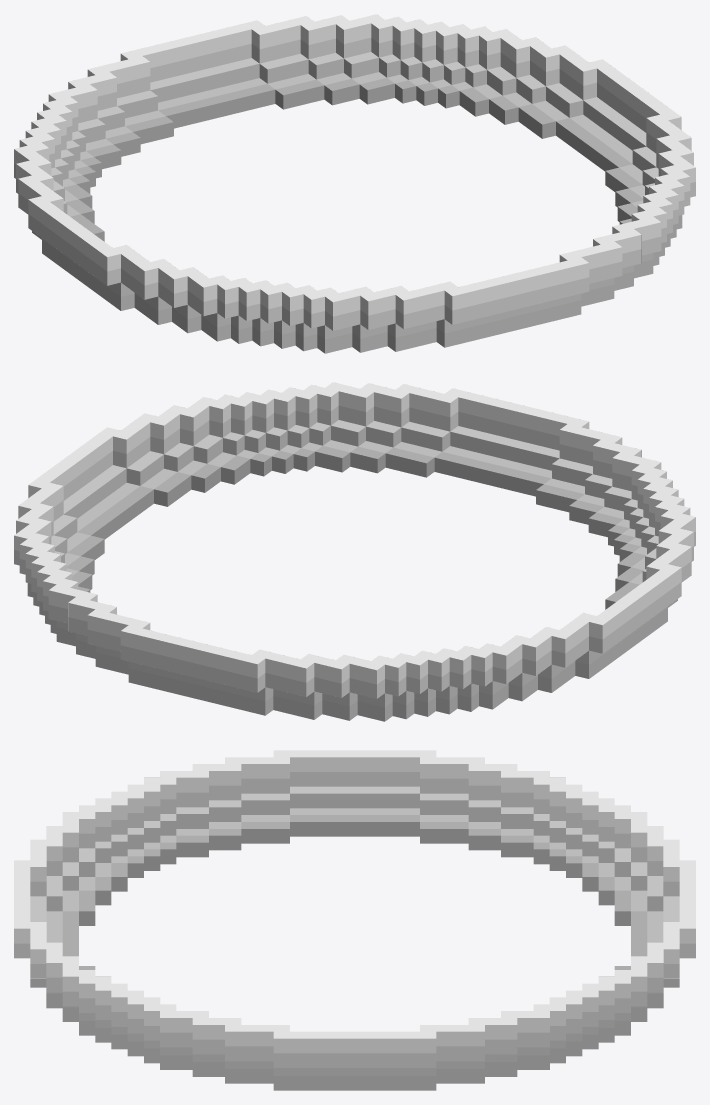
Rendered from Guardian Basic Ability.obj.
3 views of the same model, one above another, from view 1: azimuth 30°, elevation 25°; view 2: azimuth 150°, elevation 25°; view 3: azimuth 270°, elevation 25° (orthographic). The views are drawn at different scales.
Visible parts, largest first — view 1: Guardian Basic Ability; view 2: Guardian Basic Ability; view 3: Guardian Basic Ability.
Part boxes in pixels (box(x1,y1,x2,y2)): Guardian Basic Ability: box(14, 14, 695, 353); Guardian Basic Ability: box(14, 382, 695, 721); Guardian Basic Ability: box(14, 750, 695, 1090).
Size of the model in its own units: 42 by 4 by 42.
Materials: 1 (1 with a texture image).
